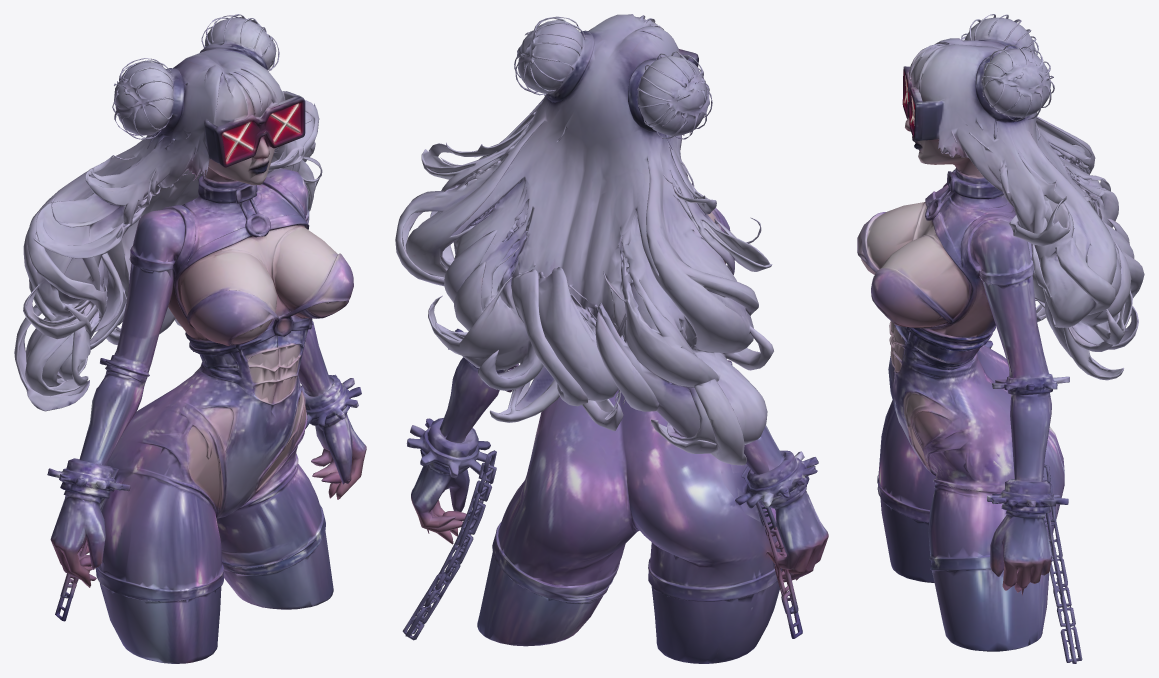
File: 01a19336-6e10-789a-8cff-c88101946cb2.glb
3 views of the same model, side by side, from view 1: azimuth 30°, elevation 25°; view 2: azimuth 150°, elevation 25°; view 3: azimuth 270°, elevation 25° (orthographic). The views are drawn at different scales.
Parts seen in each view (by area): view 1: material; view 2: material; view 3: material.
Boxes of the visible parts, x1,y1,x2,y2 form: material: (14,14,366,663); material: (395,14,828,663); material: (857,14,1144,663).
Bounding box in the file's own units: 0.6399 × 1.03 × 0.4732.
1 material, 1 textured.
